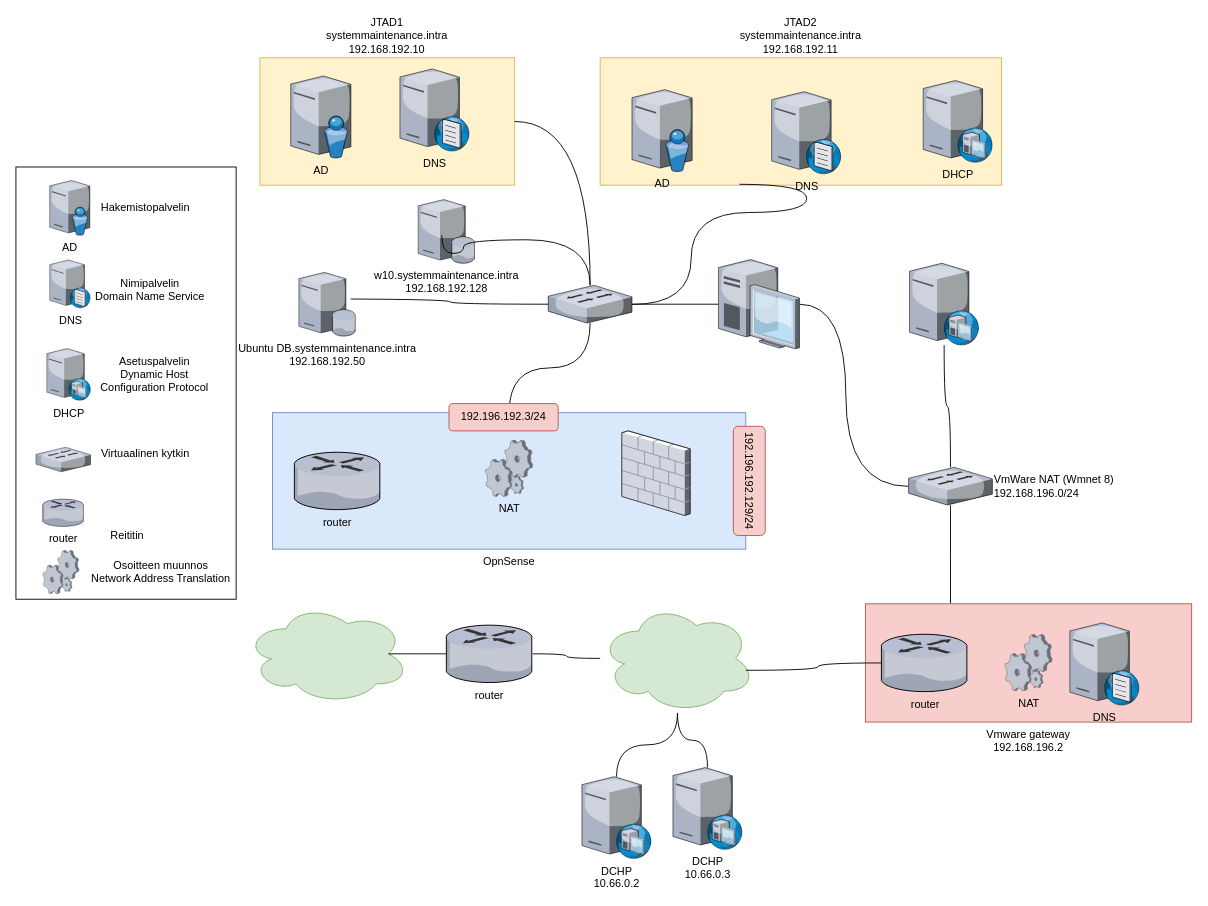
Some shapes in this 1208 by 906 pixel diagram are drawn without their labels. Each missing label, with the centre of its shape:
"FireWall" belongs at (x=655, y=472).
"Internet" belongs at (x=326, y=653).
"Luokan verkko 10.66..0.0/16" belongs at (x=677, y=658).
"VmWare DCHP 192.168.196.254" belongs at (x=943, y=304).
"VmWare HostOnly VMnet2) 192.168.192.0/24" belongs at (x=590, y=304).
"VmwareHost win11 192.168.196.1 192.168.192.2" belongs at (x=758, y=303).
